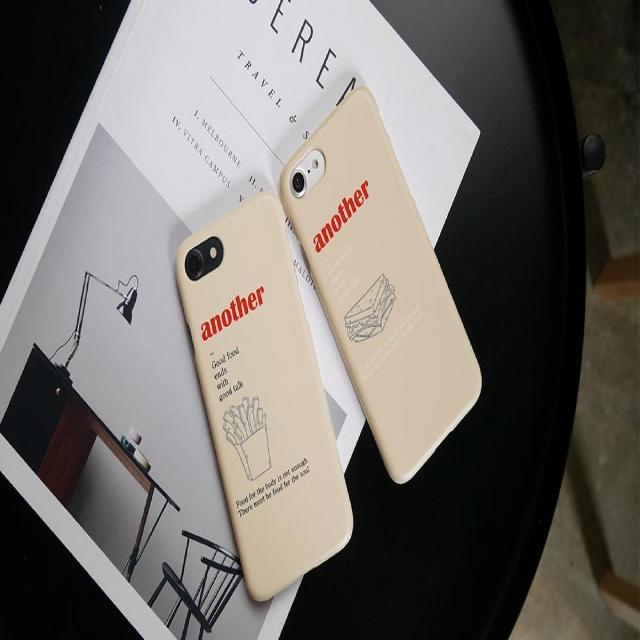phone: (280, 87, 482, 486), (174, 190, 357, 600)
